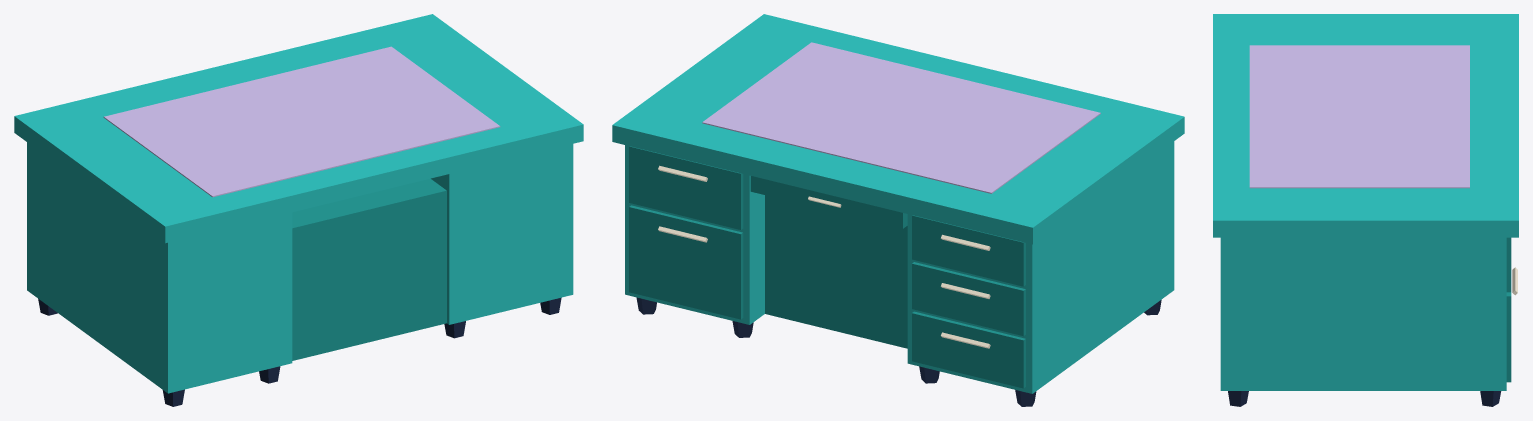
The model's file is bureau_desk_lod1.glb.
3 renders of one model, left to right at view 1: azimuth 30°, elevation 25°; view 2: azimuth 150°, elevation 25°; view 3: azimuth 270°, elevation 25°, orthographic.
Visible parts, largest first — view 1: bureau_desk_LOD1; view 2: bureau_desk_LOD1; view 3: bureau_desk_LOD1.
Boxes of the visible parts, <box> form: bureau_desk_LOD1: <box>14,14,583,406</box>; bureau_desk_LOD1: <box>612,14,1184,406</box>; bureau_desk_LOD1: <box>1213,14,1518,406</box>.
Size of the model in its own units: 16 by 7 by 10.
1 material, 1 textured.
